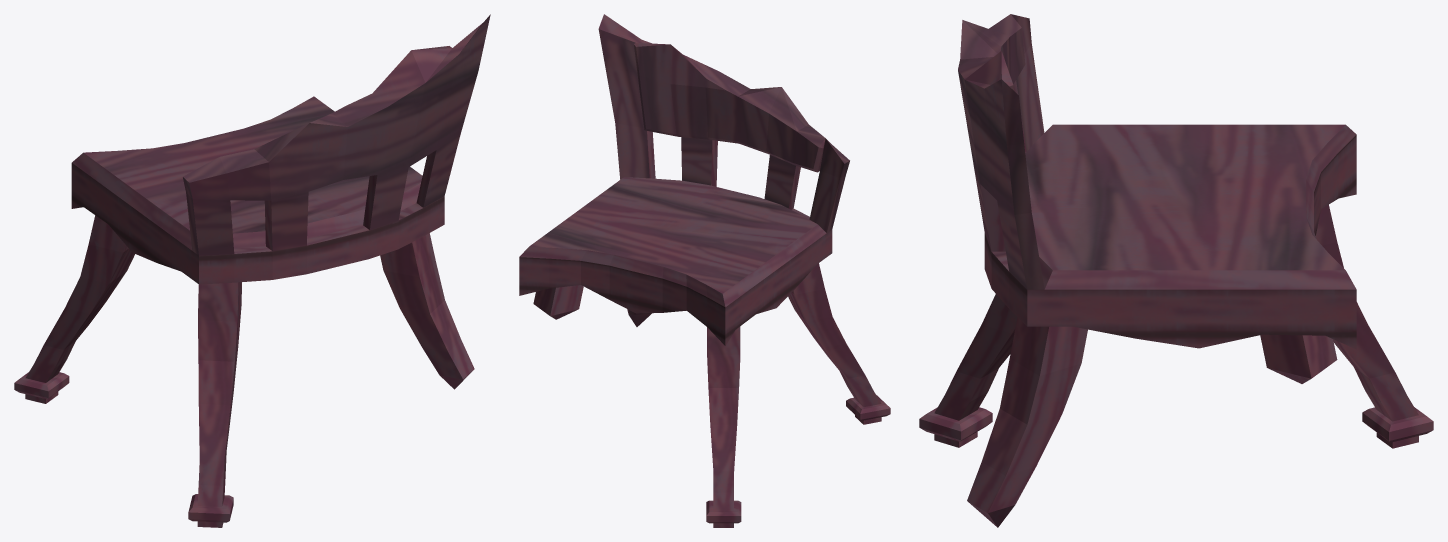
The model's file is PROP_DiningChairDamaged1.fbx.
The picture shows the model from 3 angles, left to right: view 1: azimuth 30°, elevation 25°; view 2: azimuth 150°, elevation 25°; view 3: azimuth 270°, elevation 25°; orthographic projection. The views are drawn at different scales.
Visible parts, largest first — view 1: PROP_DiningChairDamaged1; view 2: PROP_DiningChairDamaged1; view 3: PROP_DiningChairDamaged1.
Part boxes in pixels (x1,y1,x2,y2): PROP_DiningChairDamaged1: (14,14,490,527); PROP_DiningChairDamaged1: (519,14,890,527); PROP_DiningChairDamaged1: (919,14,1433,527).
Bounding box in the file's own units: 92.96 × 117 × 99.39.
Materials: 1 (1 with a texture image).
